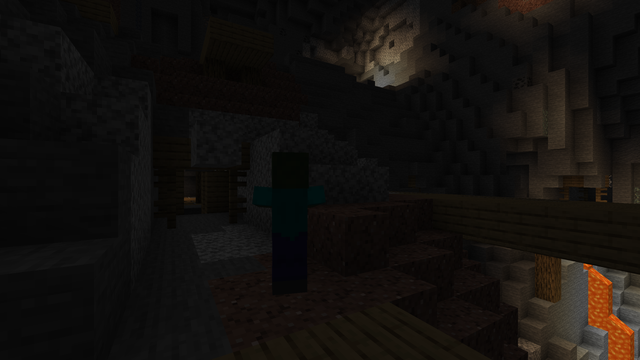zombies: (263, 154, 316, 302)
